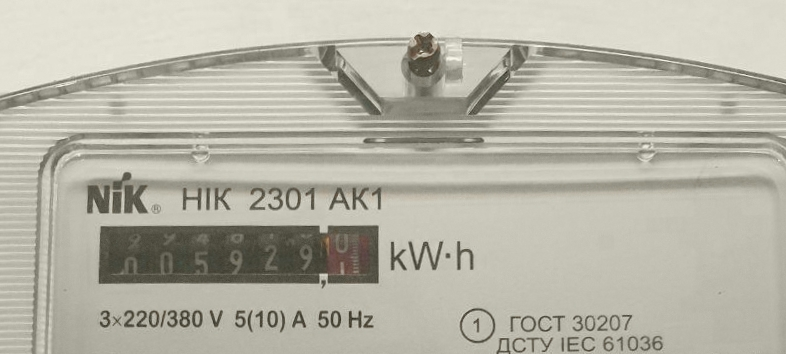0: (156, 248, 176, 277), (119, 251, 141, 274), (332, 231, 351, 254)
2: (260, 240, 280, 274)
5: (191, 247, 210, 276)
9: (224, 245, 246, 276), (296, 241, 316, 273), (124, 231, 142, 249)
screen: (91, 213, 387, 299)
